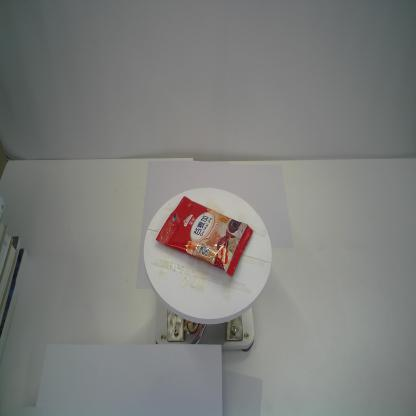Instant Drink: (156, 196, 254, 278)
